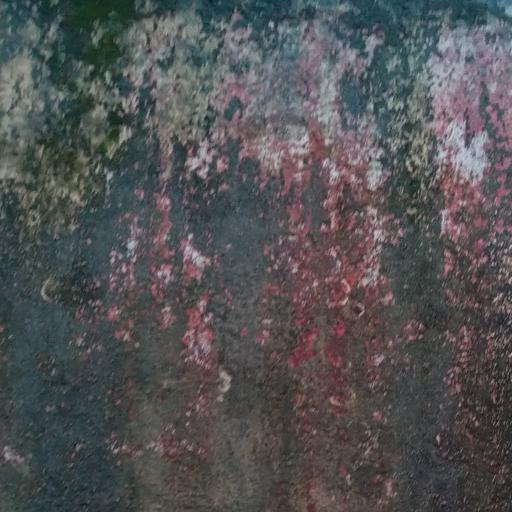algae: (3, 1, 512, 511)
